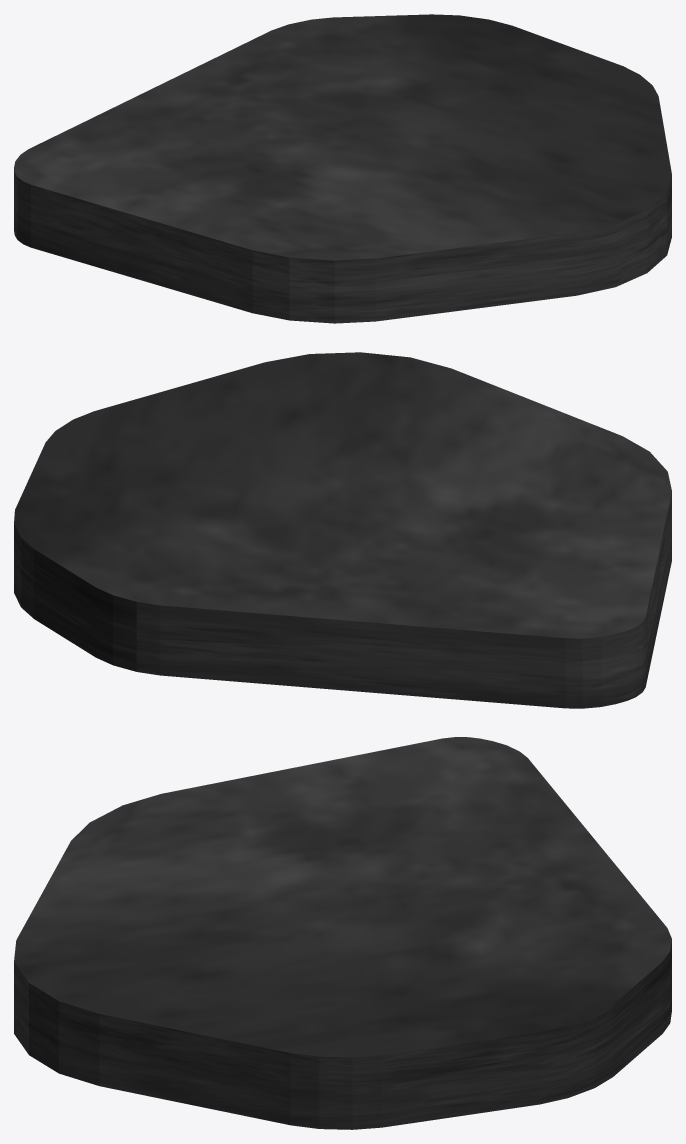
Rendered from HellPlatform.fbx.
3 renders of one model, top to bottom at view 1: azimuth 30°, elevation 25°; view 2: azimuth 150°, elevation 25°; view 3: azimuth 270°, elevation 25°, orthographic. The views are drawn at different scales.
Visible parts, largest first — view 1: Cube.011; view 2: Cube.011; view 3: Cube.011.
Boxes of the visible parts, x1,y1,x2,y2 form: Cube.011: [14, 14, 671, 323]; Cube.011: [14, 352, 671, 708]; Cube.011: [14, 737, 671, 1129].
Size of the model in its own units: 220 by 23.11 by 191.
